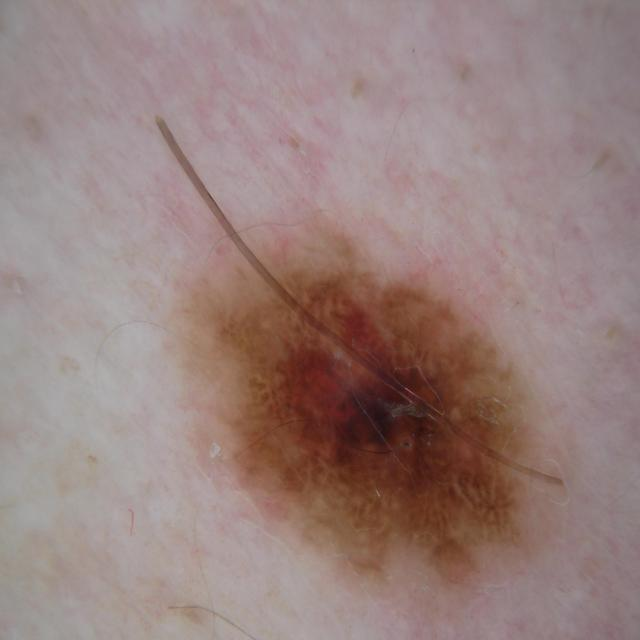Melanoma: (211, 178, 578, 590)
